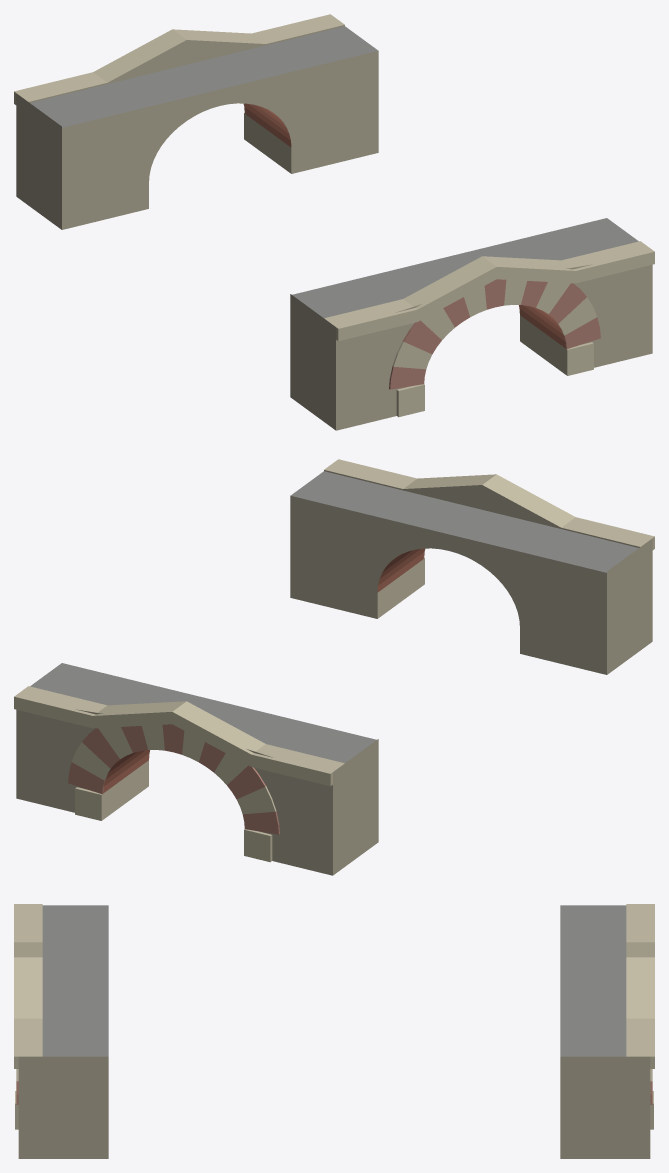
The model's file is nyc-east-wood-arch.glb.
The picture shows the model from 3 angles, top to bottom: view 1: azimuth 30°, elevation 25°; view 2: azimuth 150°, elevation 25°; view 3: azimuth 270°, elevation 25°; orthographic projection.
Visible parts, largest first — view 1: East Wood Arch; view 2: East Wood Arch; view 3: East Wood Arch.
Part boxes in pixels (x1=…): East Wood Arch: x1=14, y1=14, x2=654, y2=430; East Wood Arch: x1=14, y1=459, x2=654, y2=875; East Wood Arch: x1=14, y1=904, x2=654, y2=1158.
Size of the model in its own units: 12 by 4.6 by 21.3.
